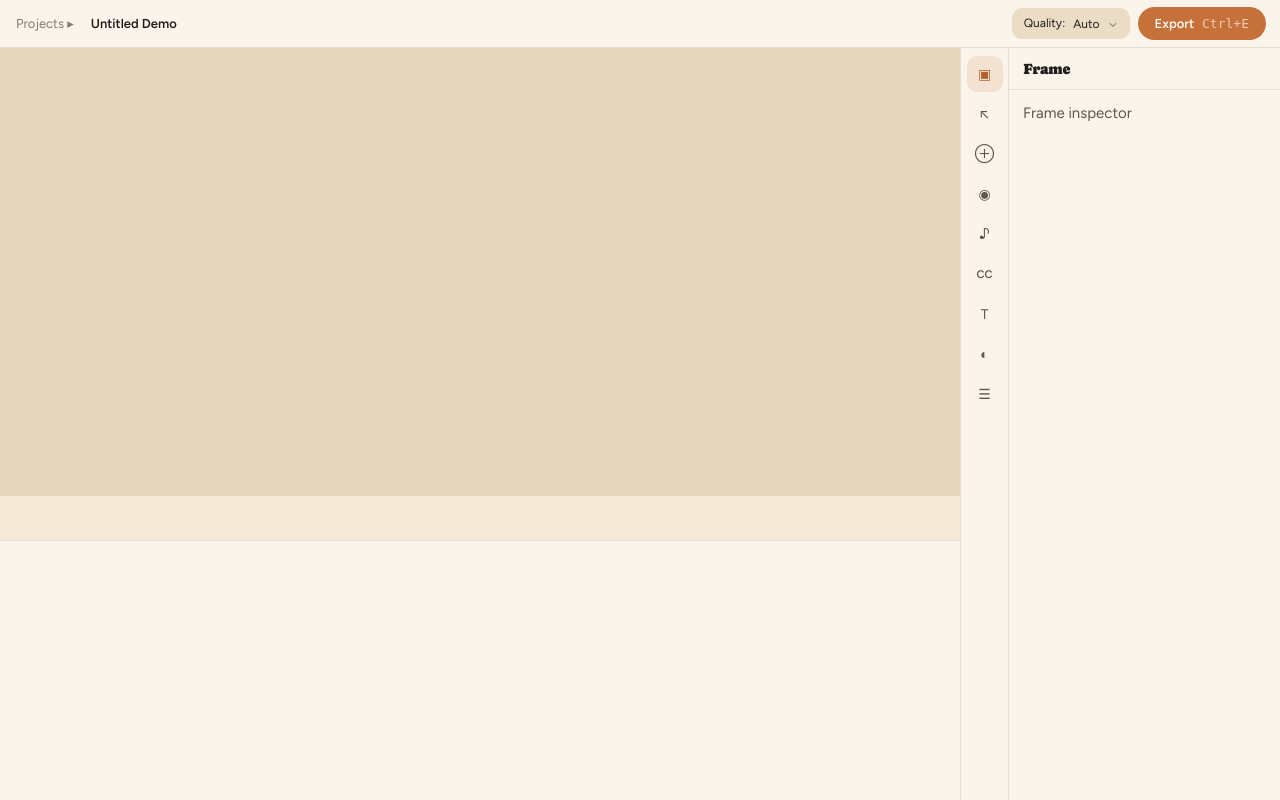
Test: EditorShell › render slots › keeps the inspector working alongside all slots
Click the tab named "Effects" at (984, 354), box [966, 336, 1002, 372]
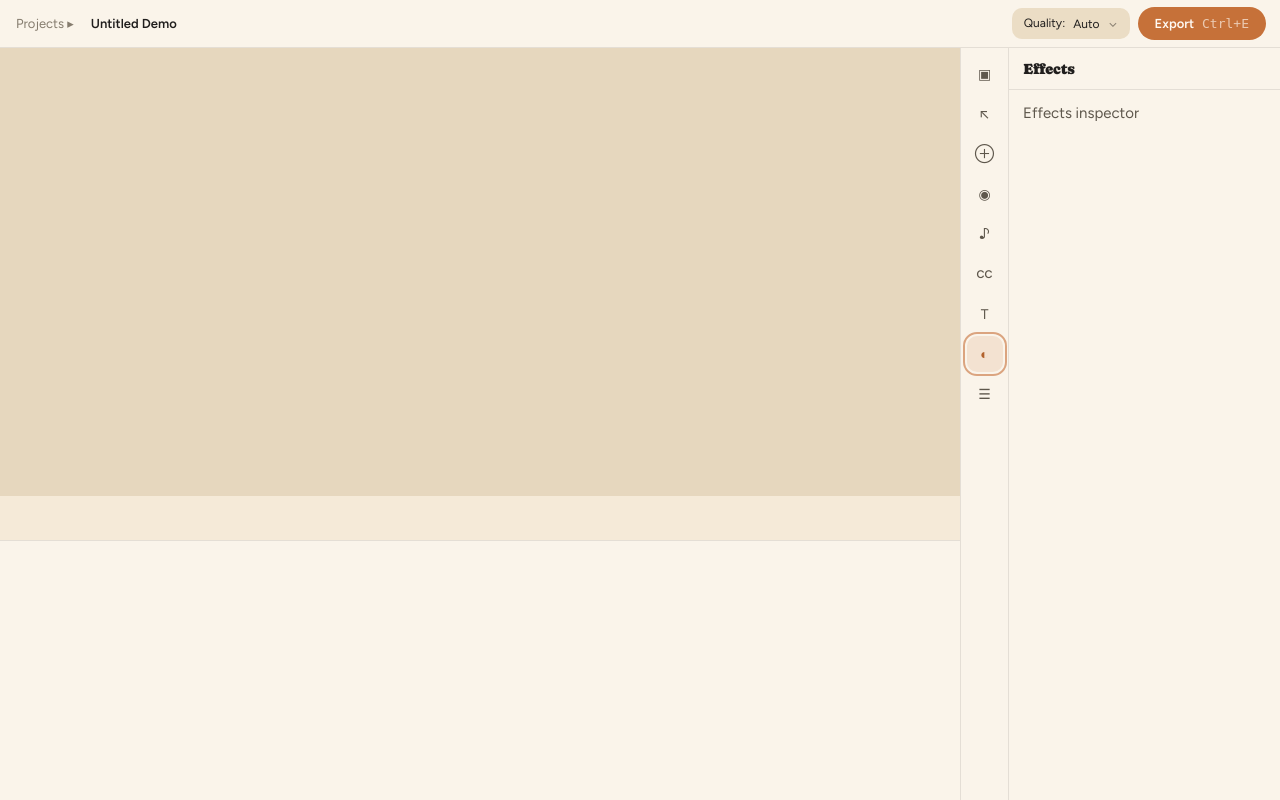
Expected: the heading reads "Effects", [1023, 60, 1074, 76]
